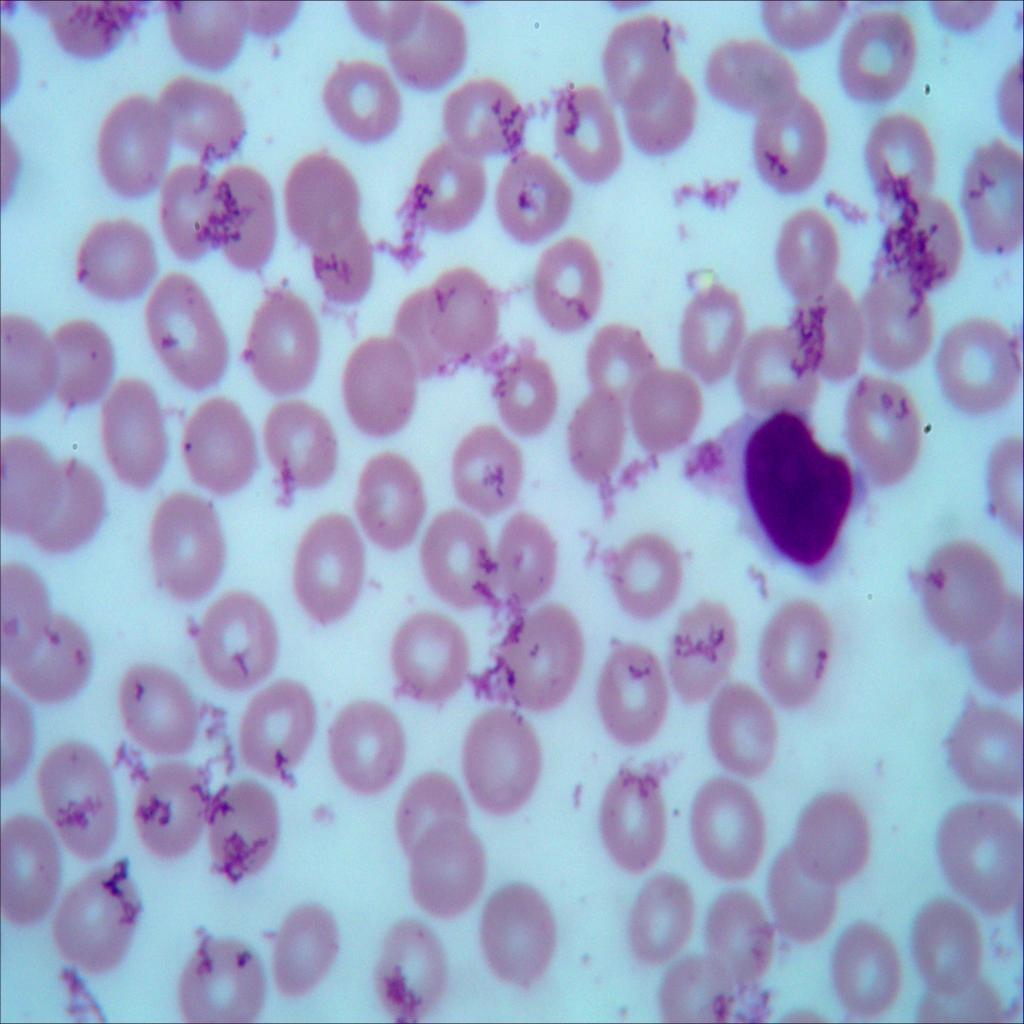Limfoblast: (722, 408, 860, 576)
